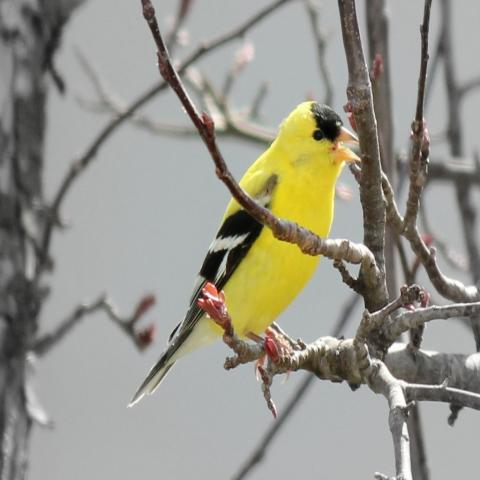bird: (126, 97, 362, 409)
